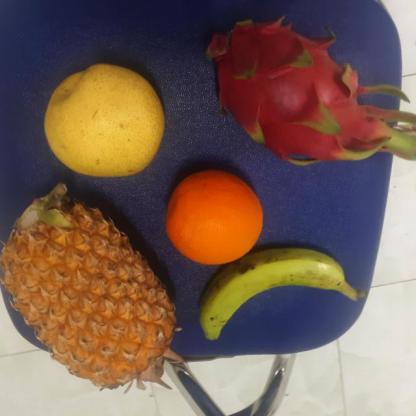banana: (192, 246, 350, 346)
orange: (160, 169, 262, 264)
pear: (39, 64, 163, 178)
pineapple: (0, 191, 169, 386)
pitaya: (205, 23, 377, 165)
